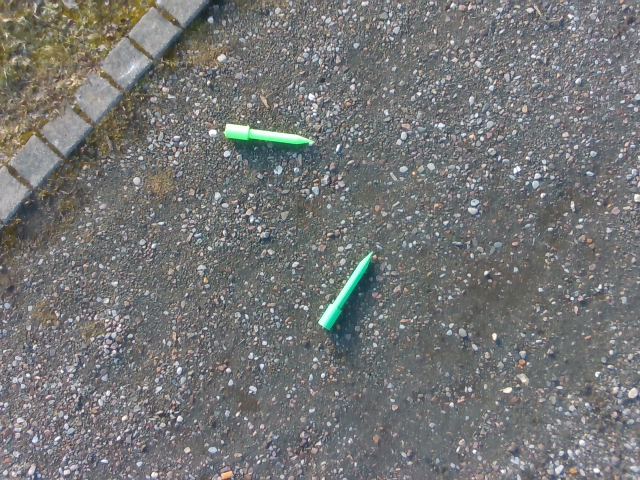Probe: (316, 250, 374, 331), (221, 117, 318, 150)
